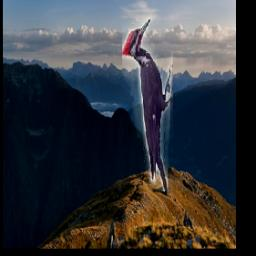Woodpecker: (122, 17, 173, 191)
